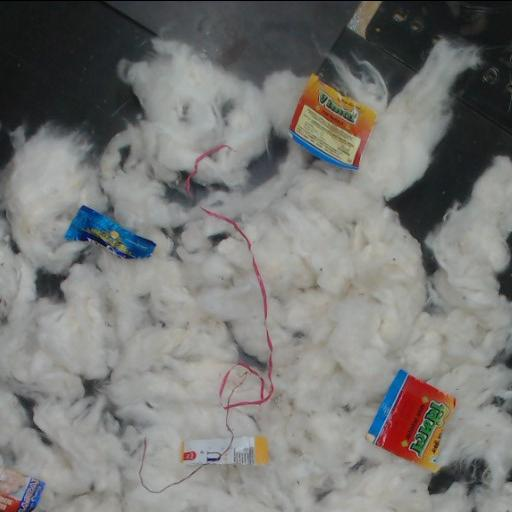conveyor belt: (0, 1, 511, 276), (428, 460, 484, 493), (37, 273, 62, 296), (498, 266, 511, 297)
packet: (368, 370, 455, 471), (290, 75, 375, 169), (65, 206, 155, 258), (181, 436, 268, 464), (0, 468, 44, 512)
thread: (200, 206, 274, 440), (139, 439, 202, 493), (184, 143, 230, 195)
